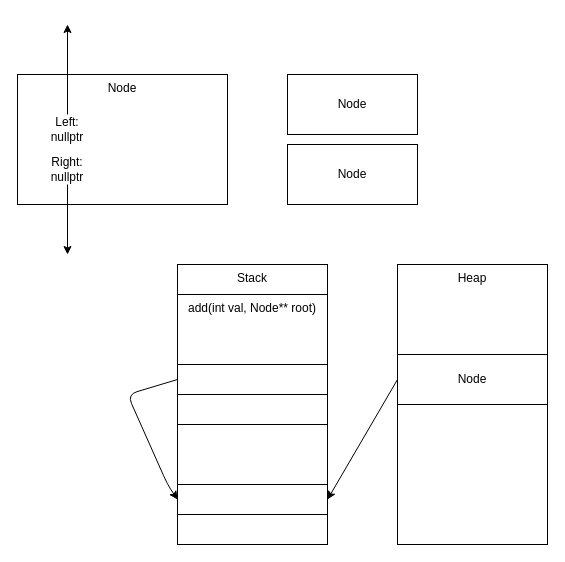
The diagram is 565 pixels wide and 562 high, and some of its shapes have lost their labels. Each missing label, with the centre of its shape:
"Node* Left: nullptr" belongs at [252,499].
"Node* Right: nullptr" belongs at [252,529].
"root: 0x1234" belongs at [252,379].
"val: 30" belongs at [252,409].
